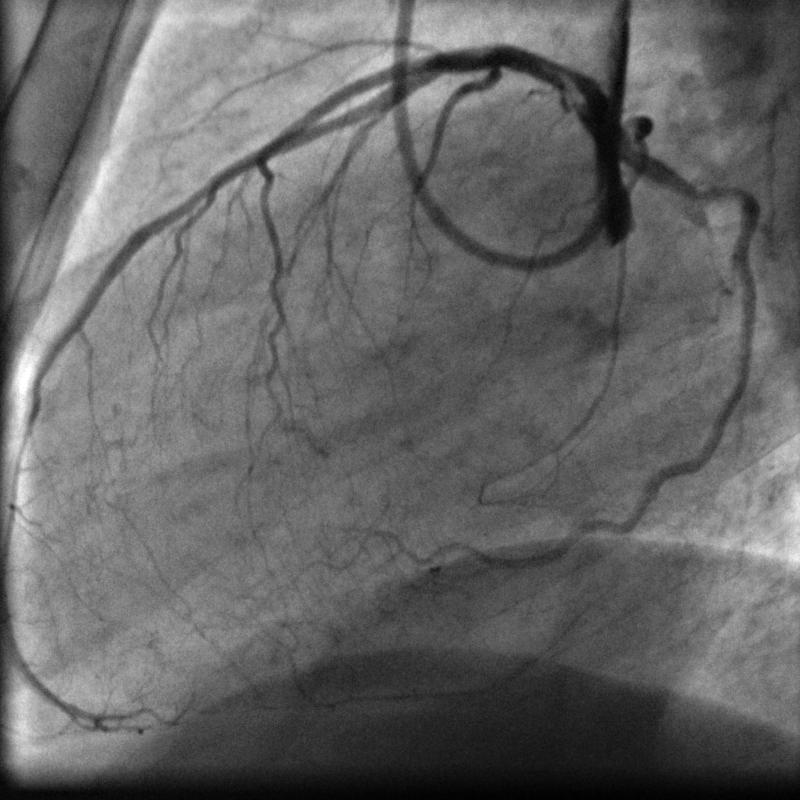Stenosis: (464, 45, 513, 92)
